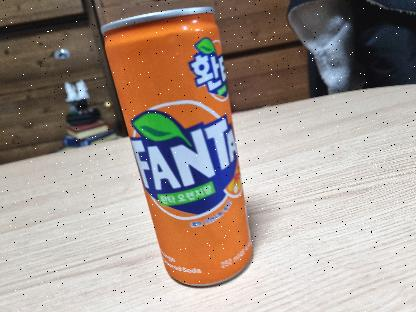Can: (101, 6, 254, 289)
